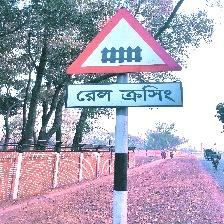Rail-crossing: (65, 6, 184, 111)
